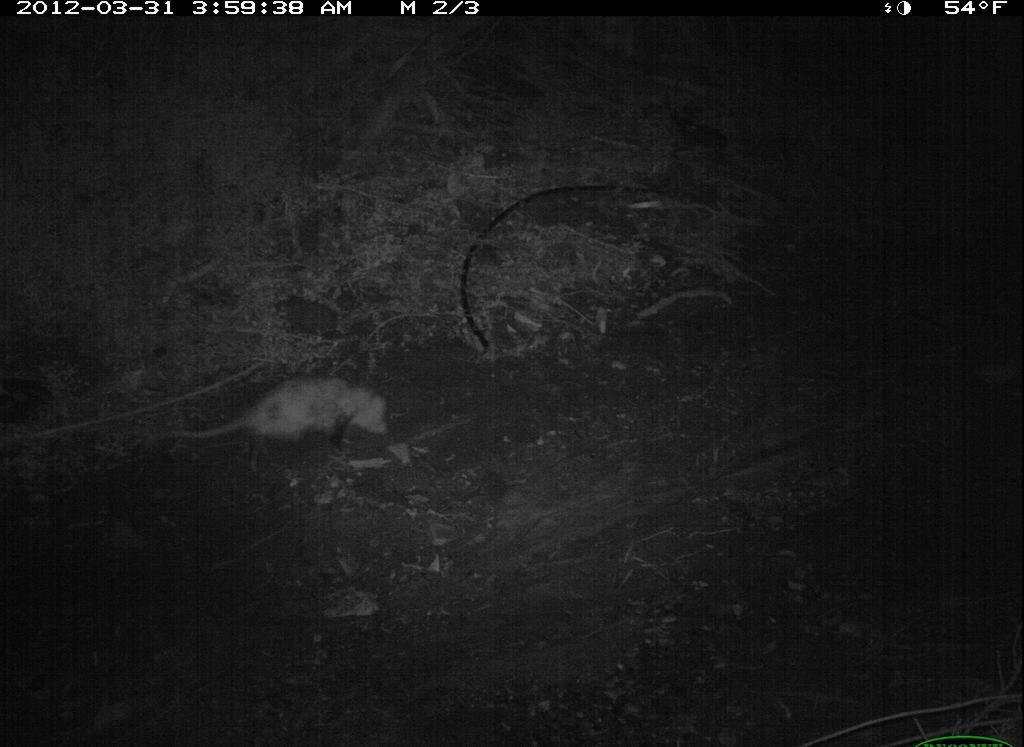opossum: (146, 368, 404, 460)
